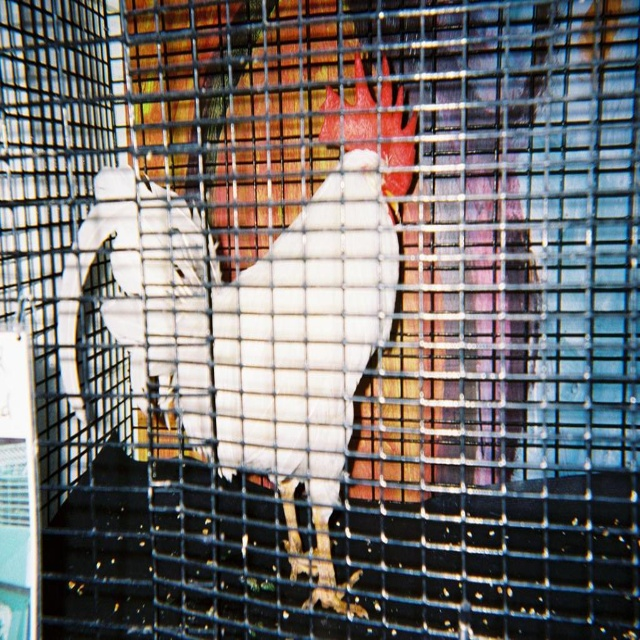Chicken: (58, 49, 414, 615)
